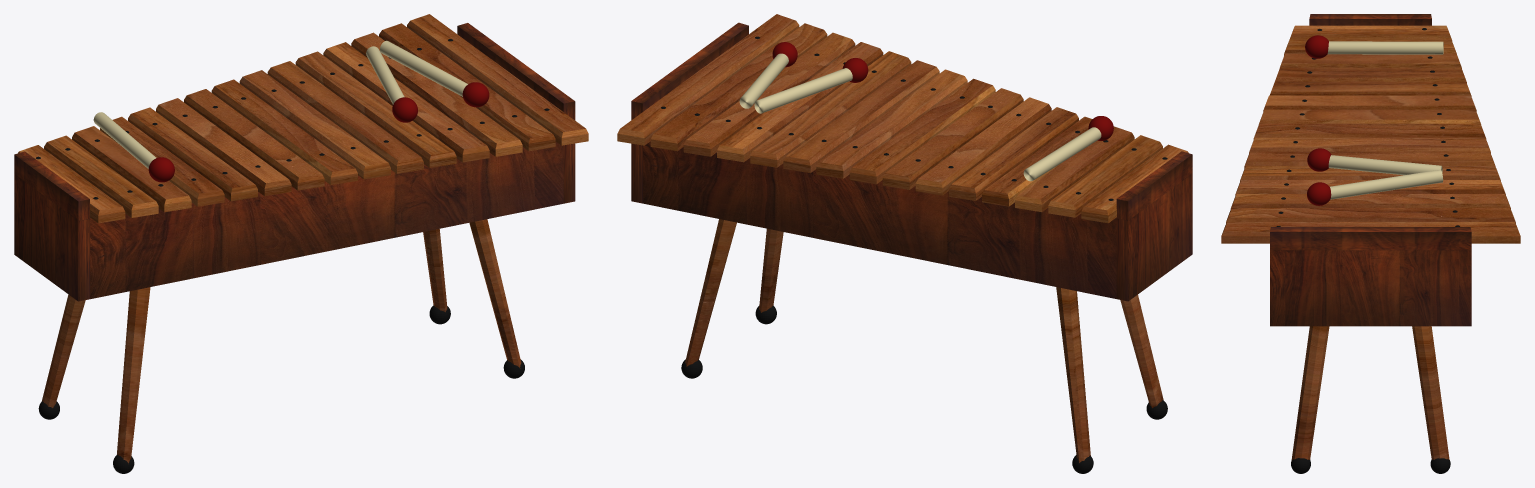
The model's file is KolintangAR.fbx.
3 views of the same model, side by side, from view 1: azimuth 30°, elevation 25°; view 2: azimuth 150°, elevation 25°; view 3: azimuth 270°, elevation 25° (orthographic). The views are drawn at different scales.
Visible parts, largest first — view 1: Cube.005, Cube, Circle, Cylinder, Cylinder.002, Cylinder.001, Circle.001; view 2: Cube.005, Cube, Circle, Cylinder.001, Cylinder.002, Cylinder, Circle.001; view 3: Cube.005, Cube, Circle, Cylinder.002, Cylinder, Cylinder.001, Circle.001.
Boxes of the visible parts, x1,y1,x2,y2 form: Cube.005: (18,14,588,223); Cube: (14,23,575,301); Circle: (41,219,521,463); Cylinder: (380,40,489,107); Cylinder.002: (93,112,174,182); Cylinder.001: (366,46,417,122); Circle.001: (38,305,524,473); Cube.005: (617,14,1188,223); Cube: (631,22,1192,301); Circle: (685,219,1163,462); Cylinder.001: (754,58,868,113); Cylinder.002: (1023,116,1113,181); Cylinder: (739,42,797,108); Circle.001: (681,305,1167,473); Cube.005: (1221,25,1520,243); Cube: (1270,14,1471,326); Circle: (1291,326,1449,461); Cylinder.002: (1305,35,1443,58); Cylinder: (1307,169,1443,205); Cylinder.001: (1307,148,1442,175); Circle.001: (1291,458,1450,473).
Bounding box in the file's own units: 897 × 535 × 520.
